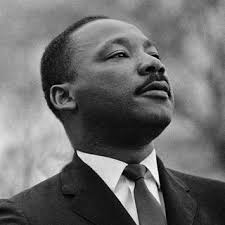black_male: (39, 9, 185, 159)
